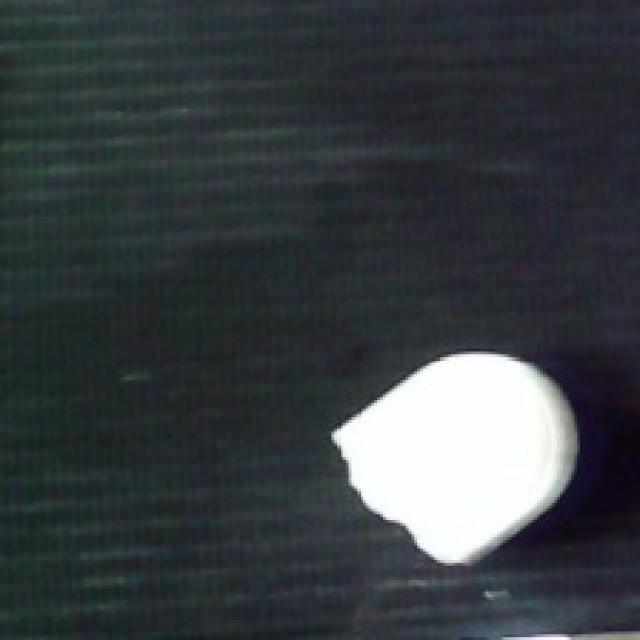defected: (326, 343, 591, 571)
